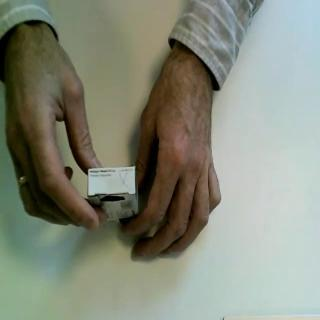nobligan_retard200mg: (87, 165, 141, 227)
